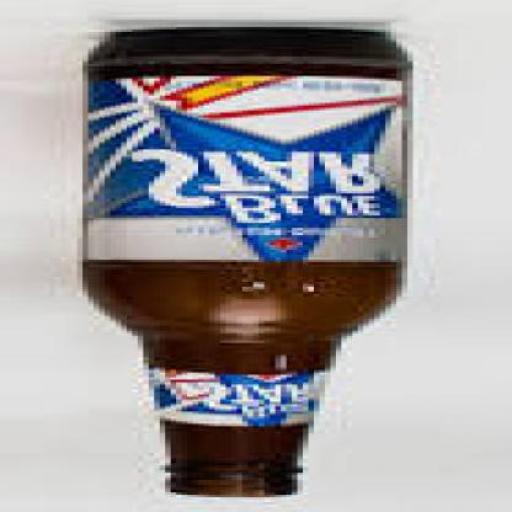glass: (78, 30, 408, 500)
